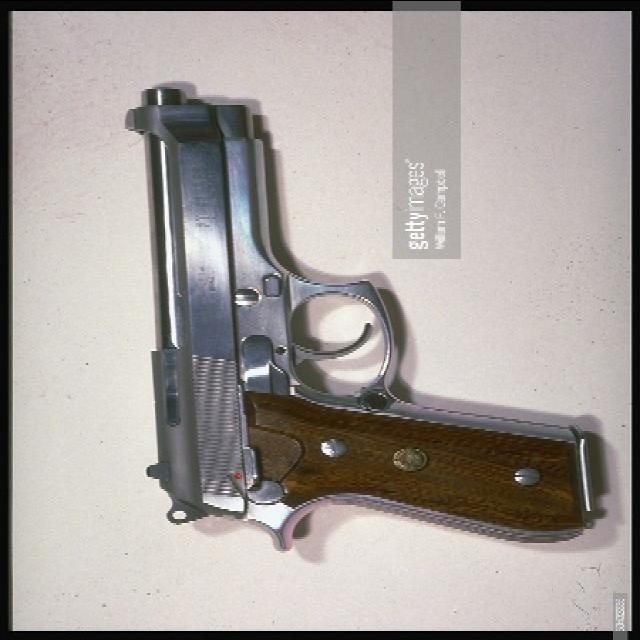handgun: (122, 85, 596, 561)
